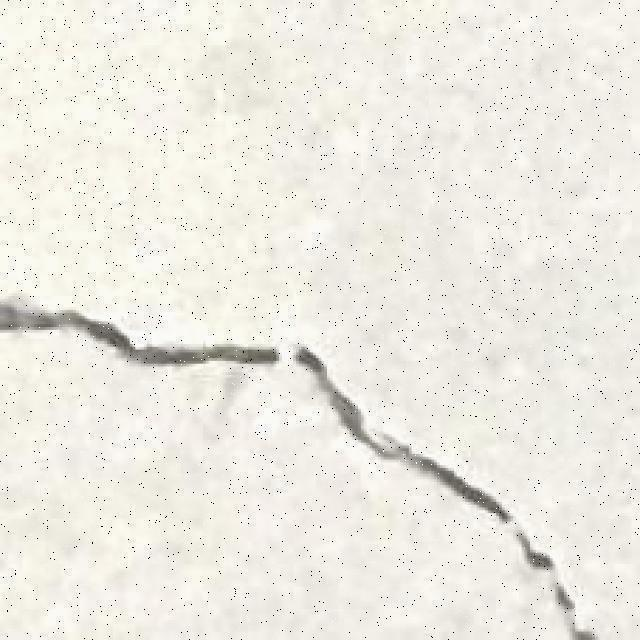crack: (1, 301, 592, 637), (7, 300, 274, 368)
